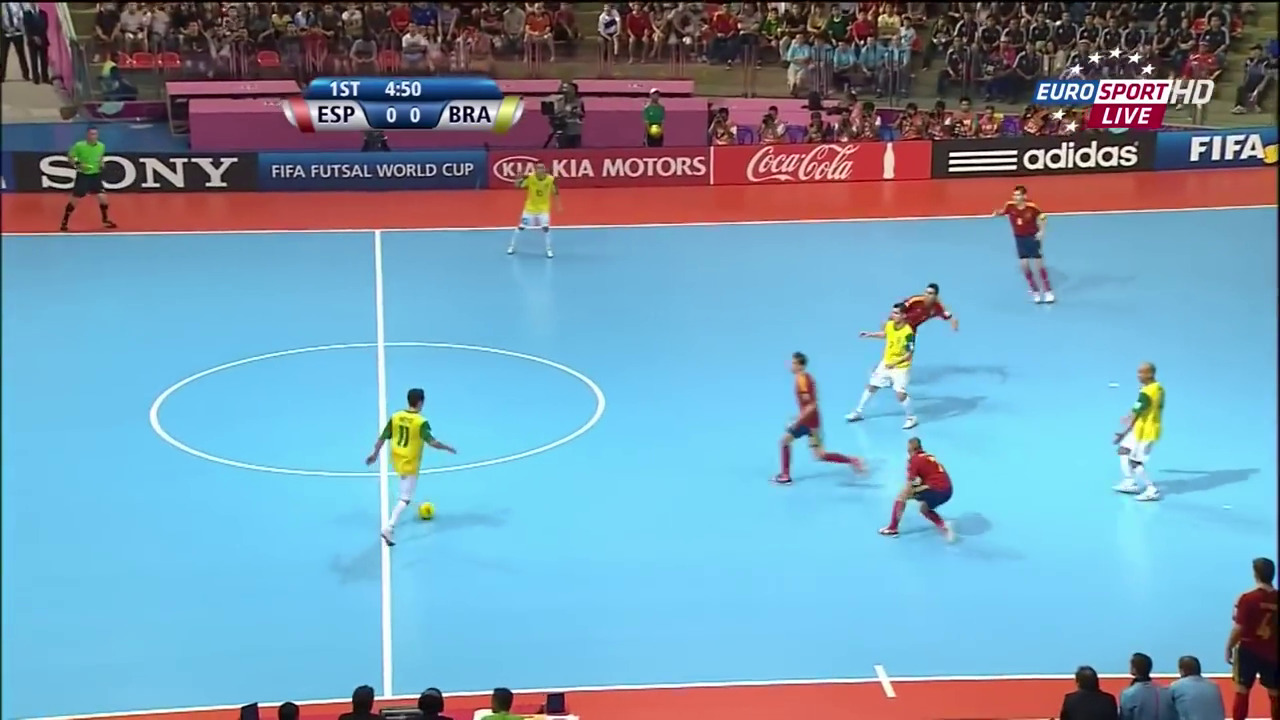ball: (415, 500, 431, 518)
person: (365, 383, 458, 545), (767, 348, 862, 483), (846, 304, 922, 427), (988, 179, 1057, 310), (882, 432, 957, 545), (1112, 356, 1165, 506), (505, 160, 562, 256), (885, 273, 962, 338)
